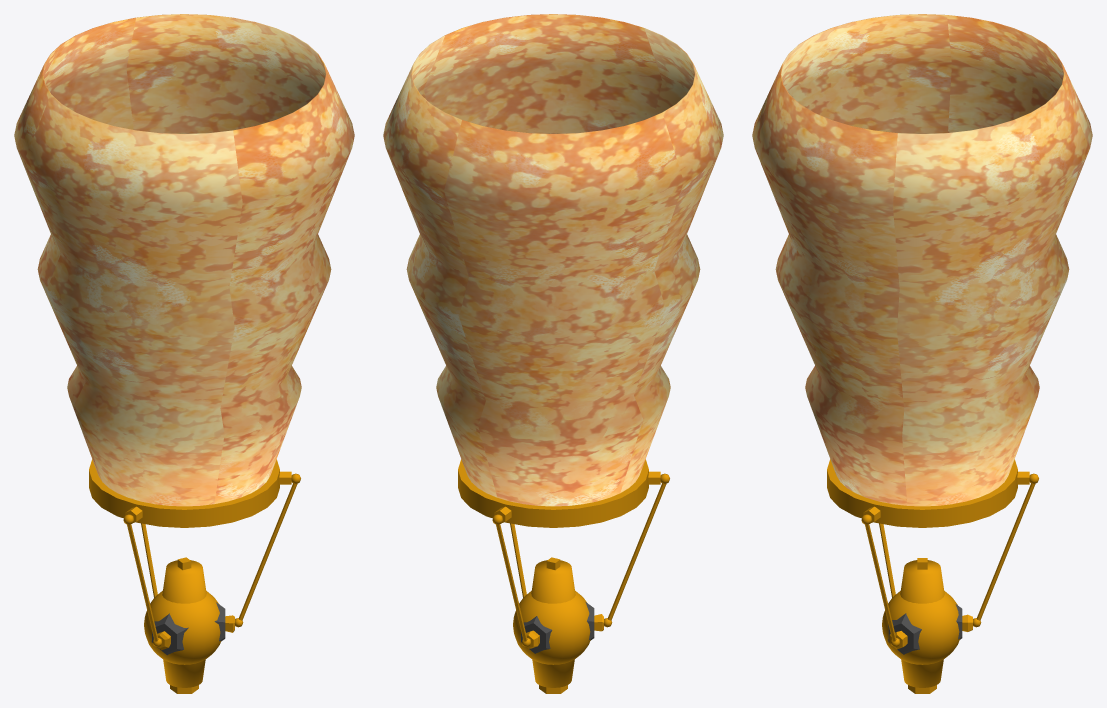
The model's file is lantern_3.fbx.
3 views of the same model, side by side, from view 1: azimuth 30°, elevation 25°; view 2: azimuth 150°, elevation 25°; view 3: azimuth 270°, elevation 25° (orthographic).
Visible parts, largest first — view 1: Cylinder.003, Cube.002; view 2: Cylinder.003, Cube.002; view 3: Cylinder.003, Cube.002.
Boxes of the visible parts, bbox=[...] form: Cylinder.003: bbox=[14, 14, 354, 506]; Cube.002: bbox=[89, 459, 300, 693]; Cylinder.003: bbox=[383, 14, 723, 506]; Cube.002: bbox=[458, 459, 669, 693]; Cylinder.003: bbox=[752, 14, 1092, 506]; Cube.002: bbox=[827, 459, 1038, 693].
Bounding box in the file's own units: 134 × 268 × 134.
